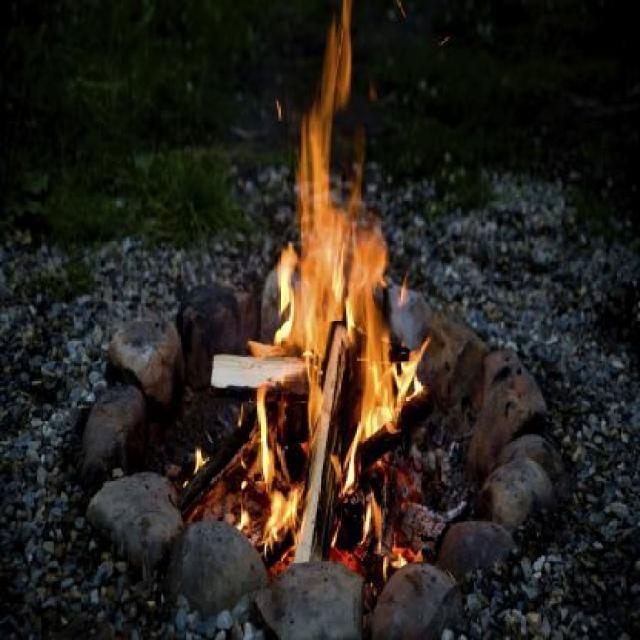Fire: (279, 12, 430, 434)
